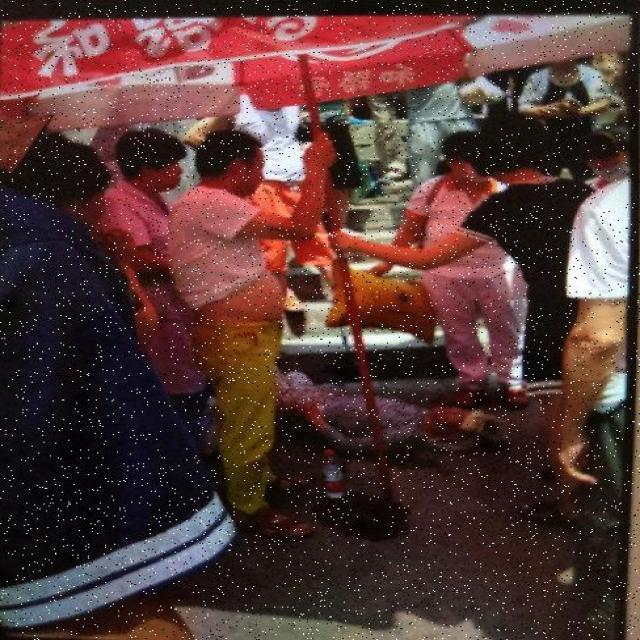fall: (237, 370, 521, 454)
